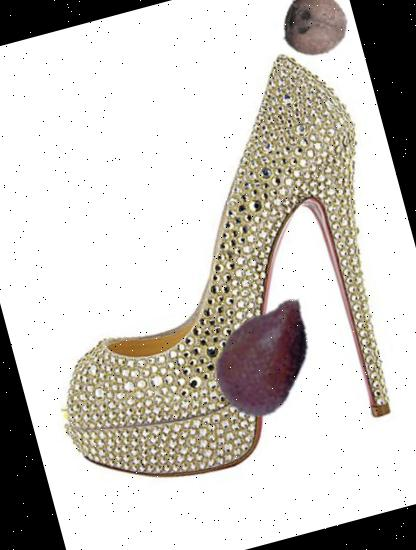Cocos: (272, 0, 357, 67)
Salak: (186, 274, 344, 432)
